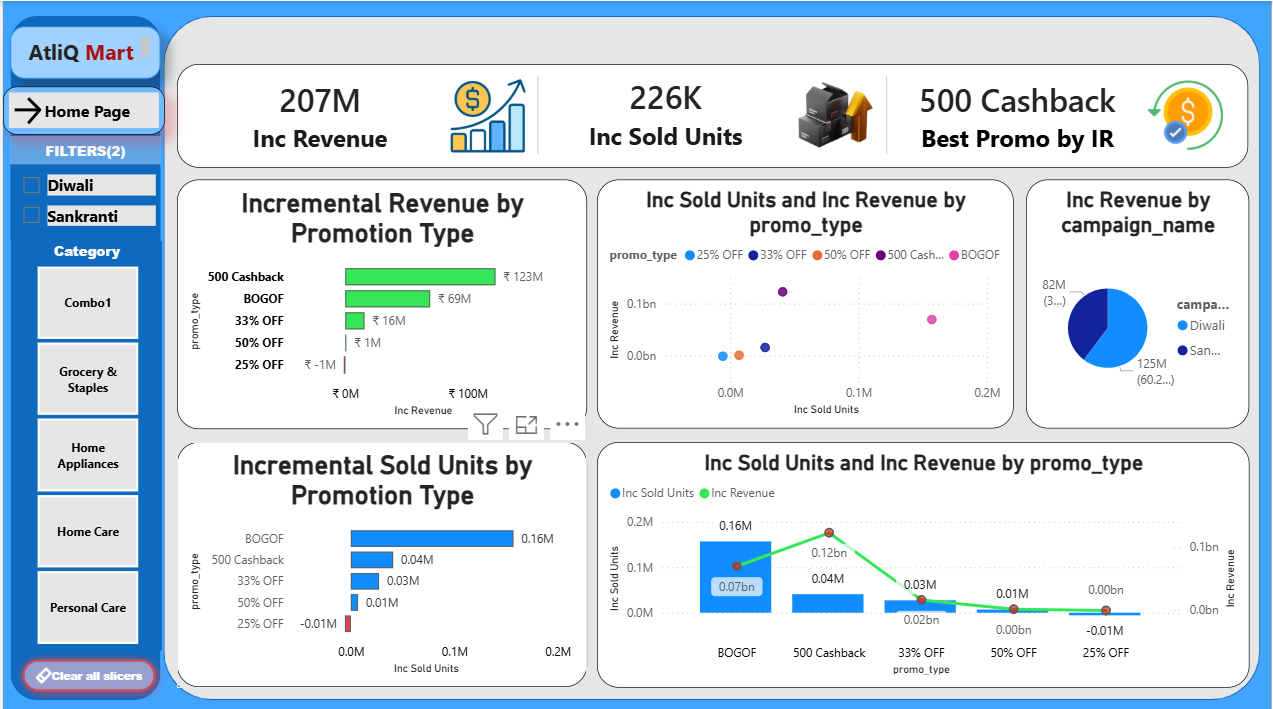

The page's visual inventory and layout, read from the dashboard file:
{"tool":"powerbi","page":{"name":"Promotion Type Analysis","canvas":[1280,720],"ordinal":2},"visuals":[{"type":"shape","box":[7.6,15.1,151.4,690.5],"z":0},{"type":"shape","title":"Financial Overview","box":[162,15.1,1106.9,690.5],"z":1000},{"type":"slicer","fields":{"Values":["retail_events_db dim_campaigns.campaign_name"]},"box":[7.6,165,151.4,77.2],"z":2000},{"type":"slicer","title":"Category","fields":{"Values":["retail_events_db dim_products.category"]},"box":[9.1,242.3,151.4,413.4],"z":3000},{"type":"clusteredBarChart","title":"Incremental Revenue by Promotion Type","fields":{"Category":["retail_events_db fact_events.promo_type"],"Y":["retail_events_db fact_events.Inc Revenue"]},"box":[175.4,179.8,414.2,251.7],"z":4000},{"type":"clusteredBarChart","title":"Incremental Sold Units by Promotion Type","fields":{"Category":["retail_events_db fact_events.promo_type"],"Y":["retail_events_db fact_events.Inc Sold Units"]},"box":[175.4,445.8,414.2,247.4],"z":5000},{"type":"lineClusteredColumnComboChart","fields":{"Category":["retail_events_db fact_events.promo_type"],"Y":["retail_events_db fact_events.Inc Sold Units"],"Y2":["retail_events_db fact_events.Inc Revenue"]},"box":[599.6,445.2,658.7,248.3],"z":6000},{"type":"cardVisual","fields":{"Data":["retail_events_db fact_events.Inc Revenue","retail_events_db fact_events.Inc Sold Units","retail_events_db fact_events.Best Promo by IR"]},"box":[175.6,63.6,1081.1,104.5],"z":7000},{"type":"scatterChart","fields":{"X":["retail_events_db fact_events.Inc Sold Units"],"Y":["retail_events_db fact_events.Inc Revenue"],"Series":["retail_events_db fact_events.promo_type"]},"box":[599.6,180.2,420.9,251.4],"z":8000},{"type":"textbox","box":[7.6,25.7,151.4,53],"z":9000},{"type":"actionButton","box":[10.1,655.8,152.4,50.3],"z":10000},{"type":"pieChart","fields":{"Y":["retail_events_db fact_events.Inc Revenue"],"Category":["retail_events_db dim_campaigns.campaign_name"]},"box":[1032.7,180.2,225.6,251.4],"z":11000},{"type":"textbox","box":[7.6,136.3,151.4,28.8],"z":12000},{"type":"actionButton","box":[0,86,163.5,48.5],"z":13000}]}

Visuals, with their boxes on the page's 1280x720 design canvas (x1, y1, x2, y2). These are canvas units, not pixel positions in the 1273x709 screenshot, which may show the page scaled, cropped or inside an application window:
shape: x1=8 y1=15 x2=159 y2=706
"Financial Overview" shape: x1=162 y1=15 x2=1269 y2=706
slicer - retail_events_db dim_campaigns.campaign_name: x1=8 y1=165 x2=159 y2=242
"Category" slicer: x1=9 y1=242 x2=160 y2=656
"Incremental Revenue by Promotion Type" clusteredBarChart: x1=175 y1=180 x2=590 y2=432
"Incremental Sold Units by Promotion Type" clusteredBarChart: x1=175 y1=446 x2=590 y2=693
lineClusteredColumnComboChart - retail_events_db fact_events.promo_type x retail_events_db fact_events.Inc Sold Units: x1=600 y1=445 x2=1258 y2=694
cardVisual - retail_events_db fact_events.Inc Revenue x retail_events_db fact_events.Inc Sold Units: x1=176 y1=64 x2=1257 y2=168
scatterChart - retail_events_db fact_events.Inc Sold Units x retail_events_db fact_events.Inc Revenue: x1=600 y1=180 x2=1020 y2=432
textbox: x1=8 y1=26 x2=159 y2=79
actionButton: x1=10 y1=656 x2=162 y2=706
pieChart - retail_events_db fact_events.Inc Revenue x retail_events_db dim_campaigns.campaign_name: x1=1033 y1=180 x2=1258 y2=432
textbox: x1=8 y1=136 x2=159 y2=165
actionButton: x1=0 y1=86 x2=164 y2=134
